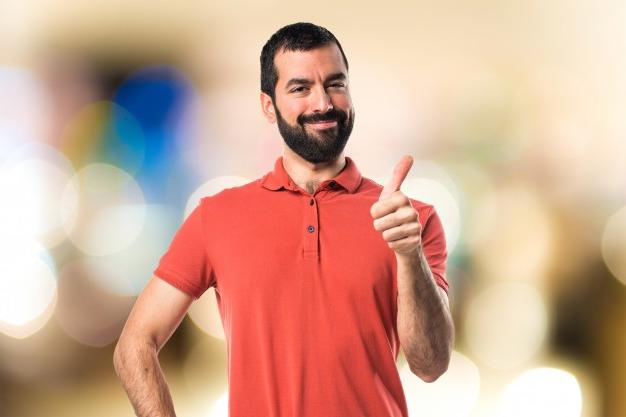thumbsup: (370, 155, 422, 249)
